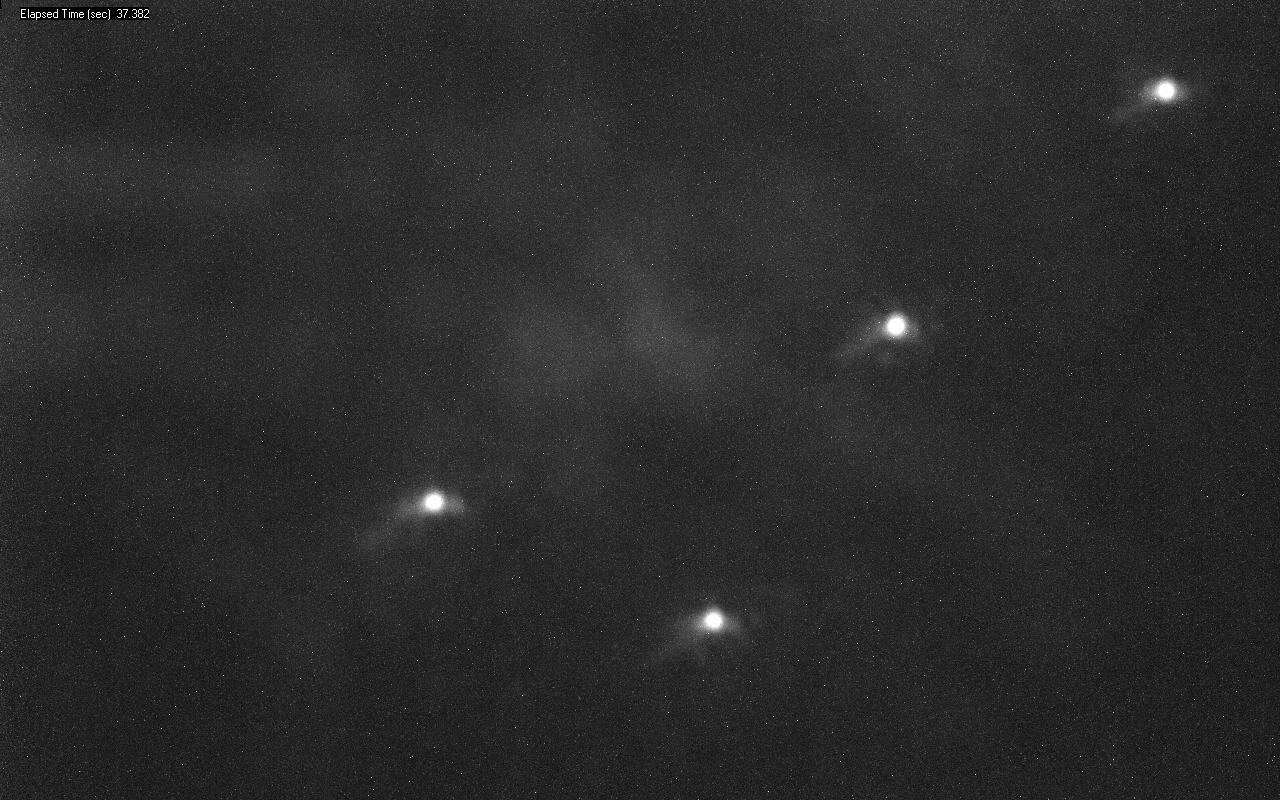Bead: (878, 313, 912, 340), (1149, 80, 1184, 104), (698, 608, 728, 631), (421, 491, 449, 515)
